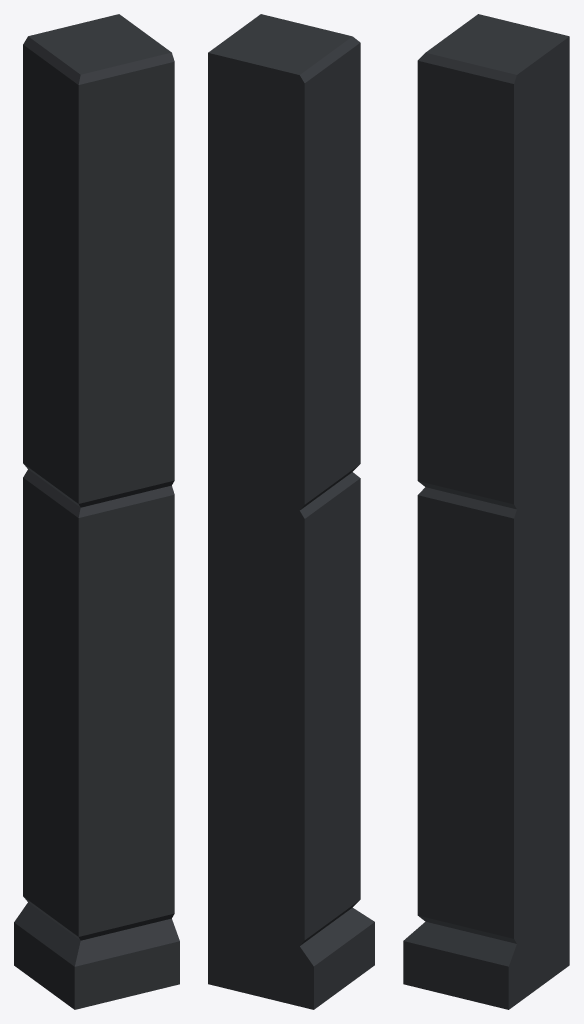
File: Pillar_Interior_04.glb
3 views of the same model, side by side, from view 1: azimuth 30°, elevation 25°; view 2: azimuth 150°, elevation 25°; view 3: azimuth 330°, elevation 25° (orthographic).
Parts seen in each view (by area): view 1: SM_Env_Pillar_Interior_04; view 2: SM_Env_Pillar_Interior_04; view 3: SM_Env_Pillar_Interior_04.
Boxes of the visible parts, box(x1,y1,x2,y2) form: SM_Env_Pillar_Interior_04: box(14, 14, 179, 1009); SM_Env_Pillar_Interior_04: box(208, 14, 374, 1009); SM_Env_Pillar_Interior_04: box(403, 14, 569, 1009).
Size of the model in its own units: 0.3568 by 3 by 0.3568.
1 material, 1 textured.
